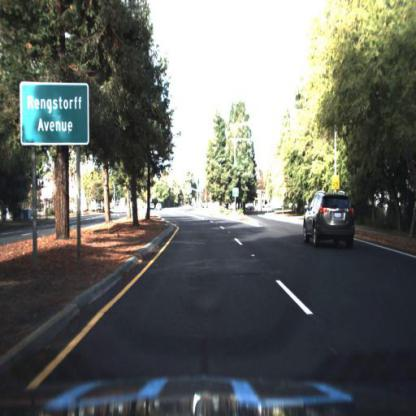car: (301, 190, 358, 249)
